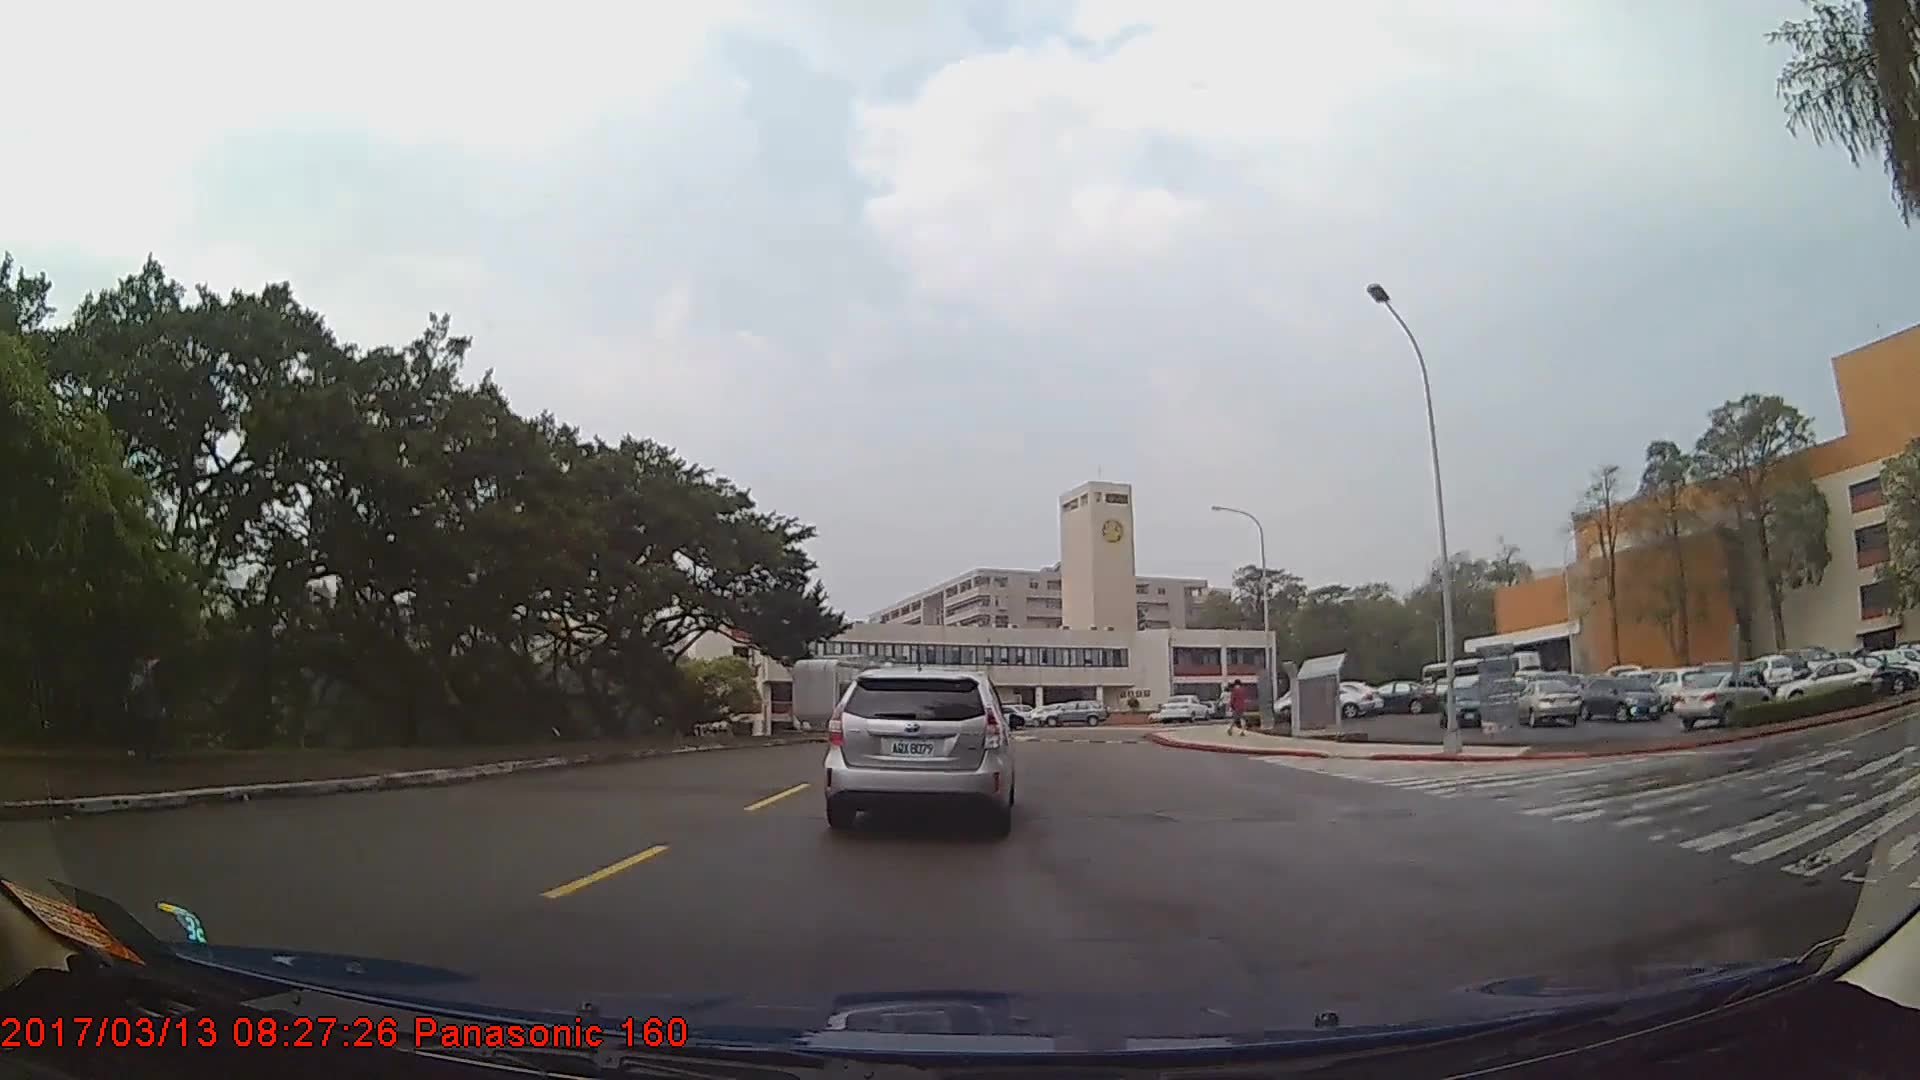pedestrian: (119, 635, 175, 766), (1228, 681, 1250, 738)
vehicle: (824, 664, 1014, 833), (1673, 667, 1770, 729), (1776, 657, 1882, 706), (1581, 674, 1665, 723), (1514, 676, 1584, 728), (1363, 679, 1437, 714), (1441, 682, 1496, 725), (1442, 684, 1494, 729), (1036, 698, 1110, 726), (1155, 692, 1210, 724)
